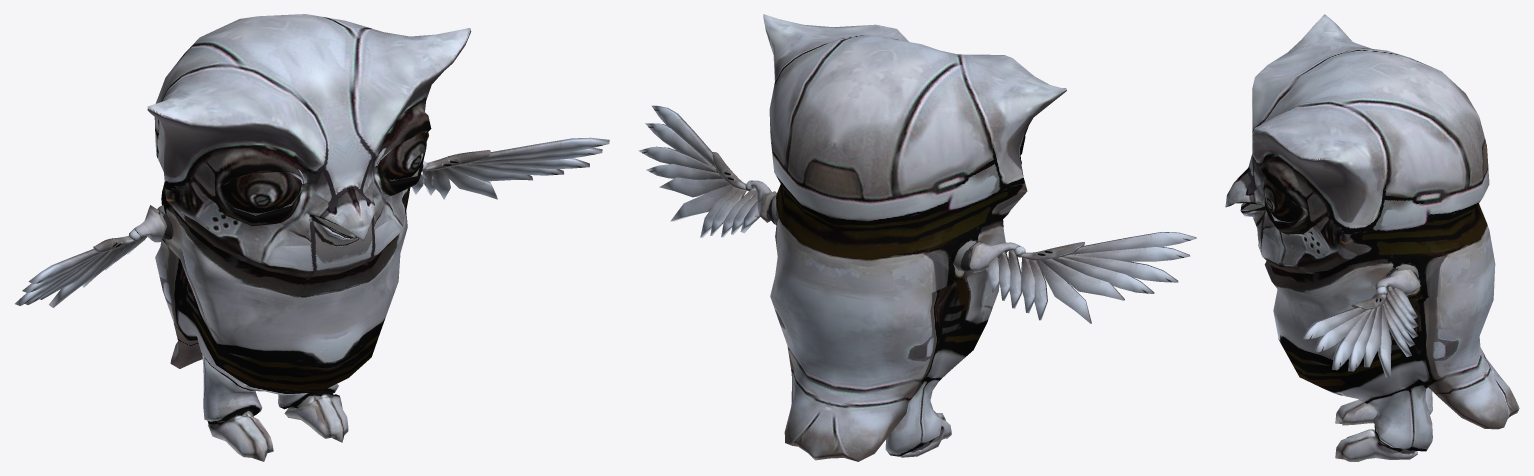
Rendered from owl.fbx.
3 renders of one model, left to right at view 1: azimuth 30°, elevation 25°; view 2: azimuth 150°, elevation 25°; view 3: azimuth 270°, elevation 25°, orthographic. The views are drawn at different scales.
Visible parts, largest first — view 1: polySurface41; view 2: polySurface41; view 3: polySurface41.
Part boxes in pixels (x1,y1,x2,y2): polySurface41: (15,14,609,461); polySurface41: (638,14,1196,461); polySurface41: (1225,14,1519,461).
Size of the model in its own units: 150 by 102 by 72.36.
1 material, 1 textured.
